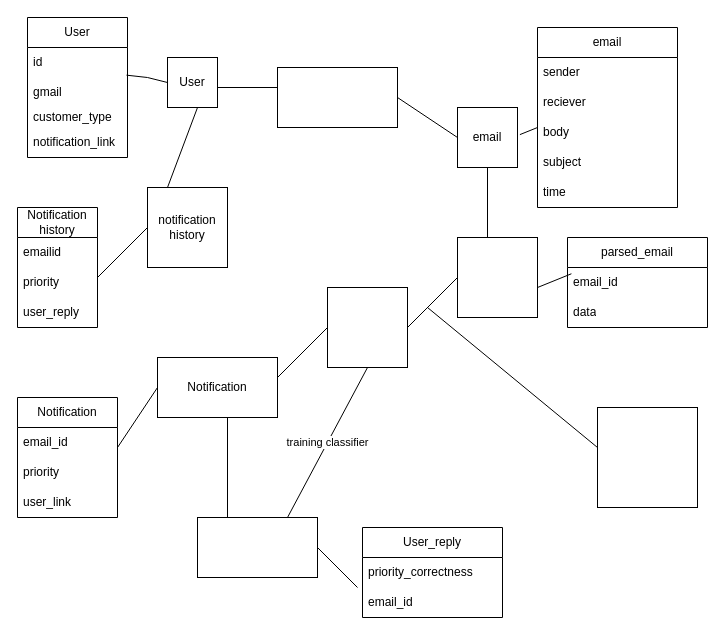
This 725x635 diagram has some shape labels left out. The centre of each missing label's shape, as x and y in pixels:
"email fetch gmail_api" belongs at (x=337, y=97).
"email_priority classifier" belongs at (x=367, y=327).
"encryption_logic" belongs at (x=647, y=457).
"parse email" belongs at (x=497, y=277).
"Reply by user" belongs at (x=257, y=547).
